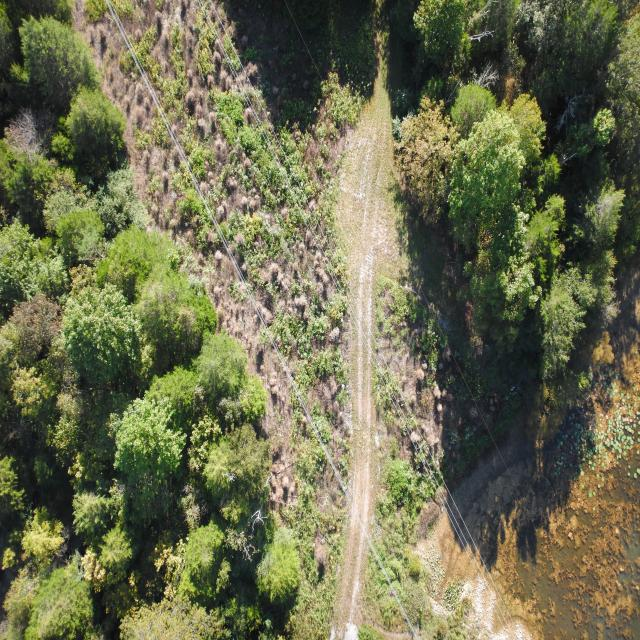Area of Interest: (17, 10, 293, 608), (414, 21, 633, 385)
